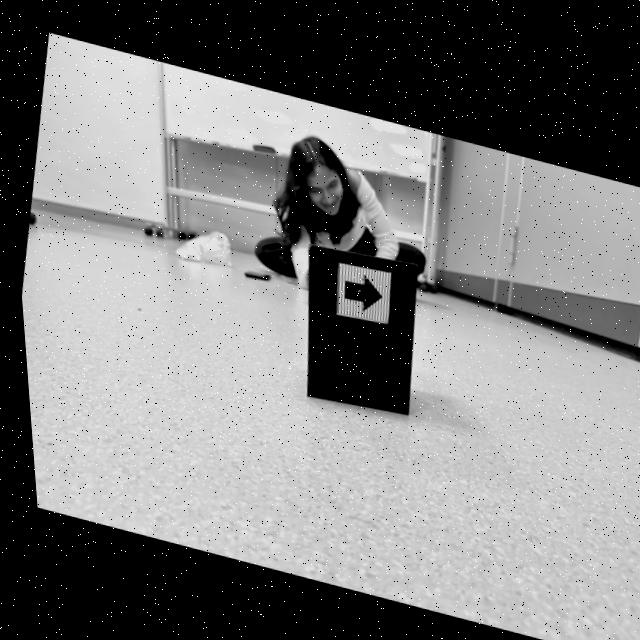RIGHT: (339, 269, 377, 304)
